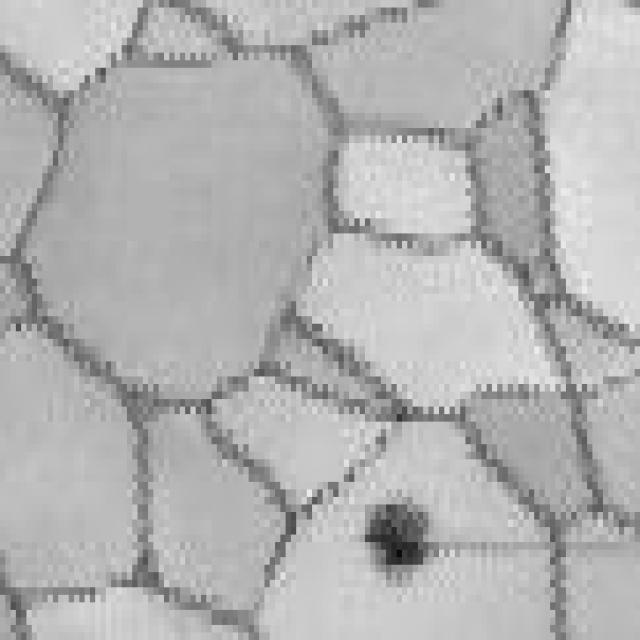good_void: (362, 483, 439, 587)
